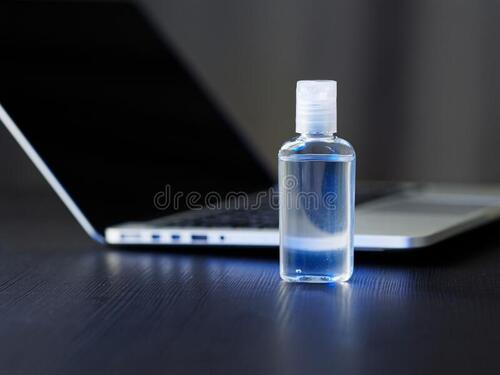sanitizer: (276, 75, 360, 287)
